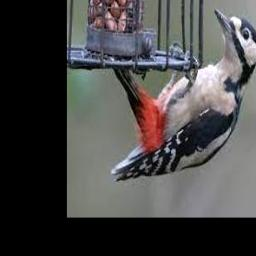Woodpecker: (111, 8, 256, 181)
